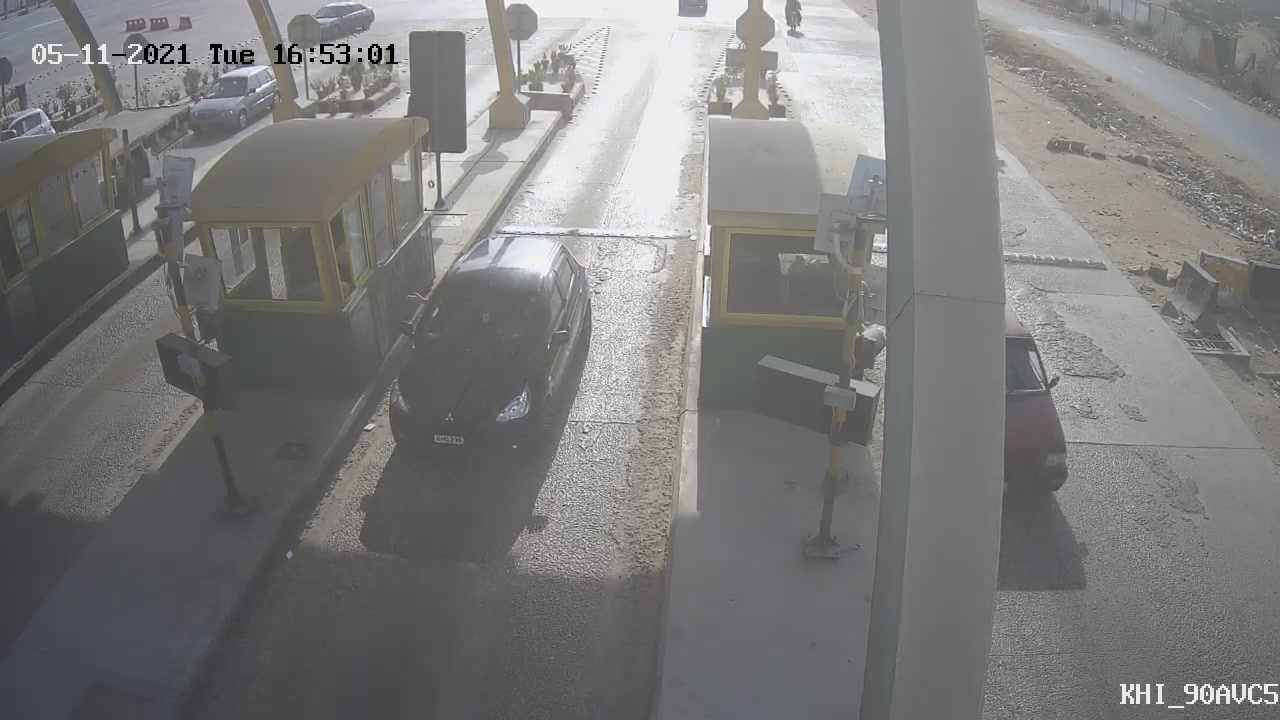F1: (350, 214, 611, 473)
